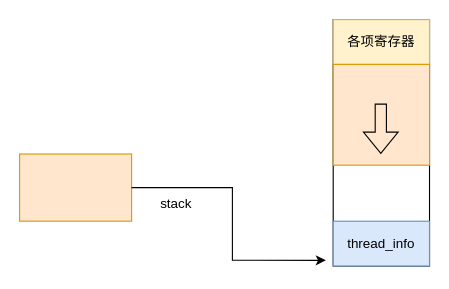
Some shapes in this 449 by 289 pixel diagram are drawn without their labels. Each missing label, with the box of its shape:
task_struct: (18, 153, 132, 221)
函数栈: (332, 63, 430, 165)
